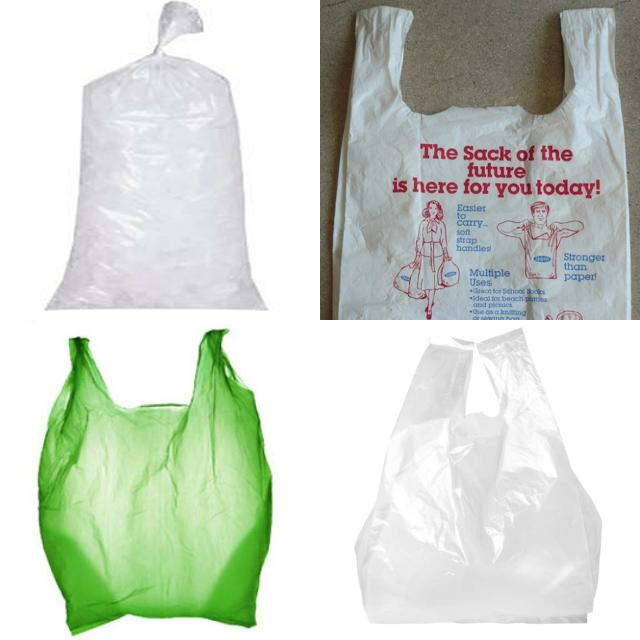Single-layer Plastic: (332, 6, 631, 321), (356, 329, 601, 622), (39, 330, 271, 634), (48, 1, 265, 308)
